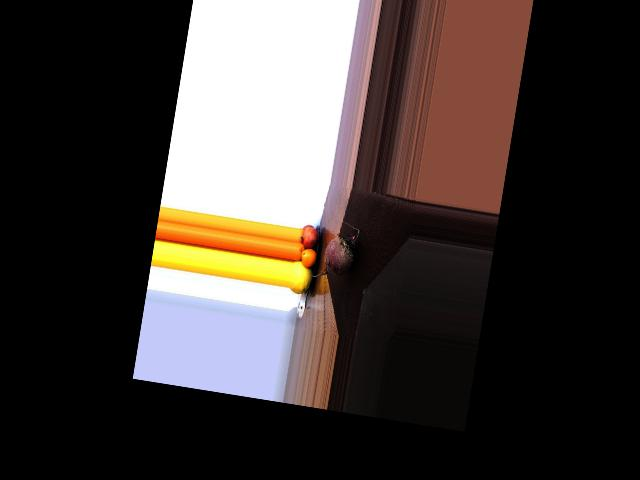beet: (307, 217, 360, 283)
